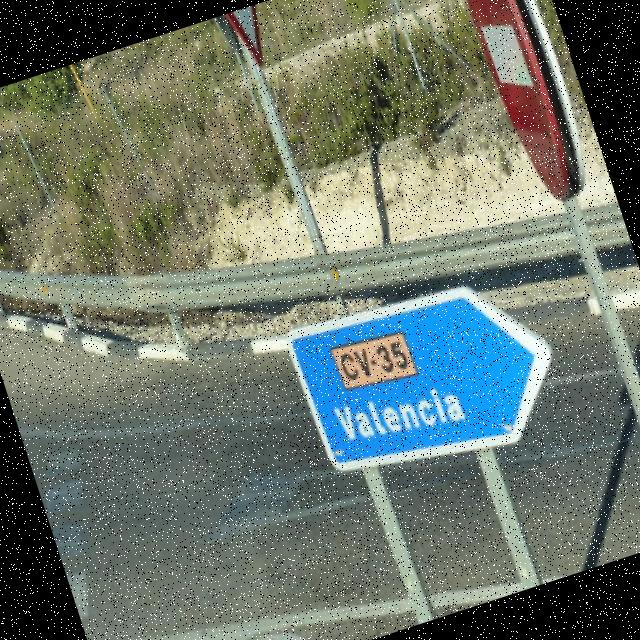give_way: (202, 0, 303, 81)
